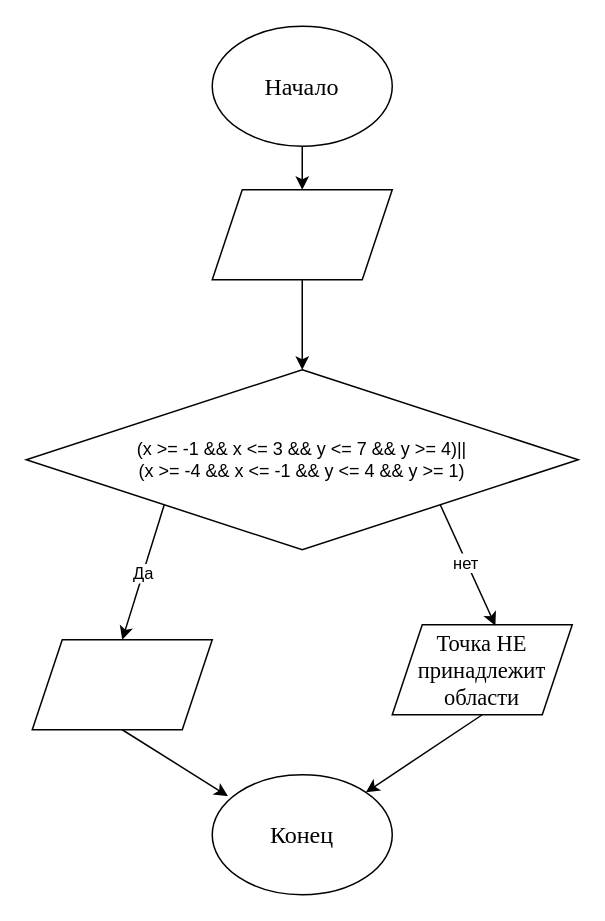
Some shapes in this 605 by 921 pixel diagram are drawn without their labels. Each missing label, with the centre of its shape:
"Ввод координат x,y" goes at [301,234].
"Точка принадлежит области" goes at [121,684].
